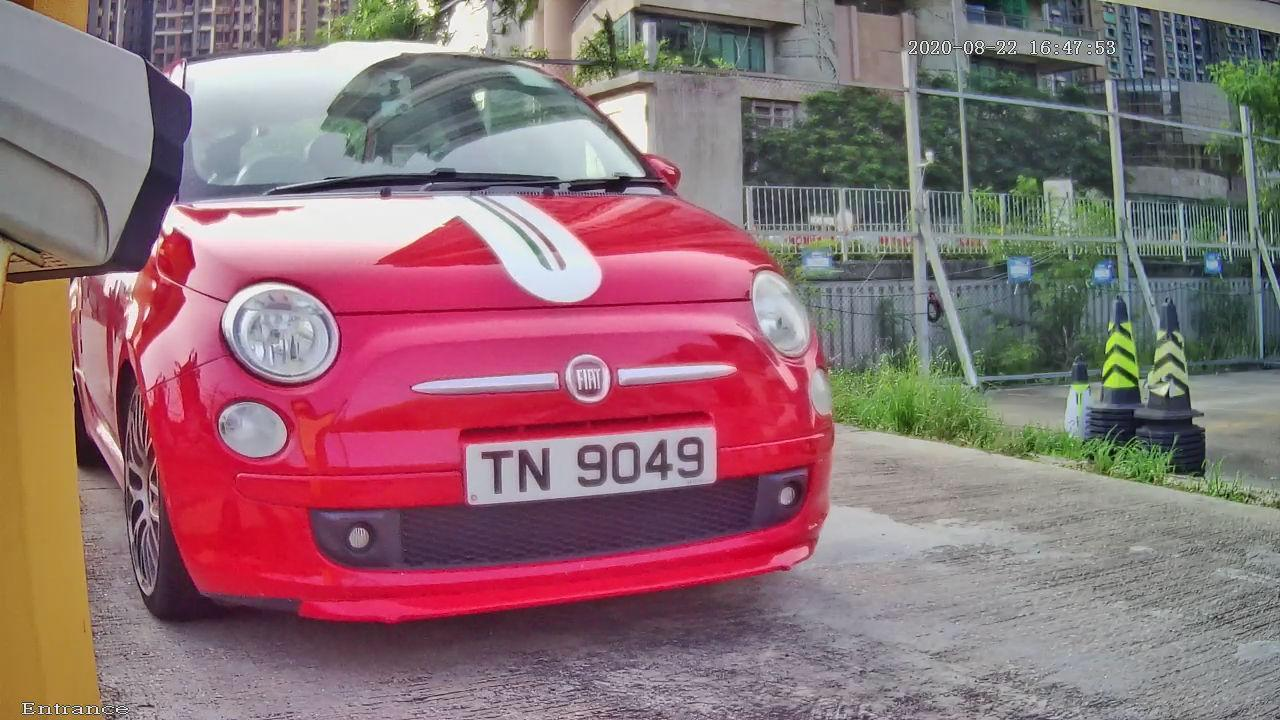Car: (41, 10, 932, 698)
License Plate: (446, 412, 732, 521)
